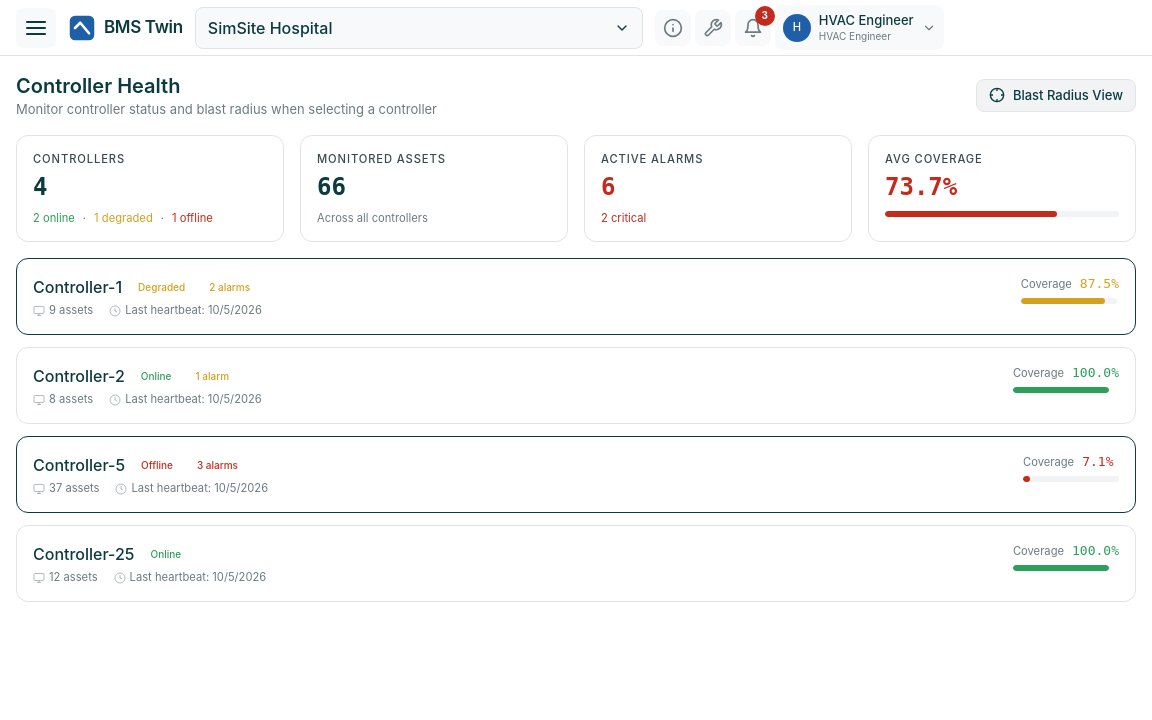
Test: ControllerHealth page › summarises the affected zones for the blast radius
The width and height of the screenshot is (1152, 720).
Click the button "Blast Radius View" at (1056, 95), box [976,79,1136,112]
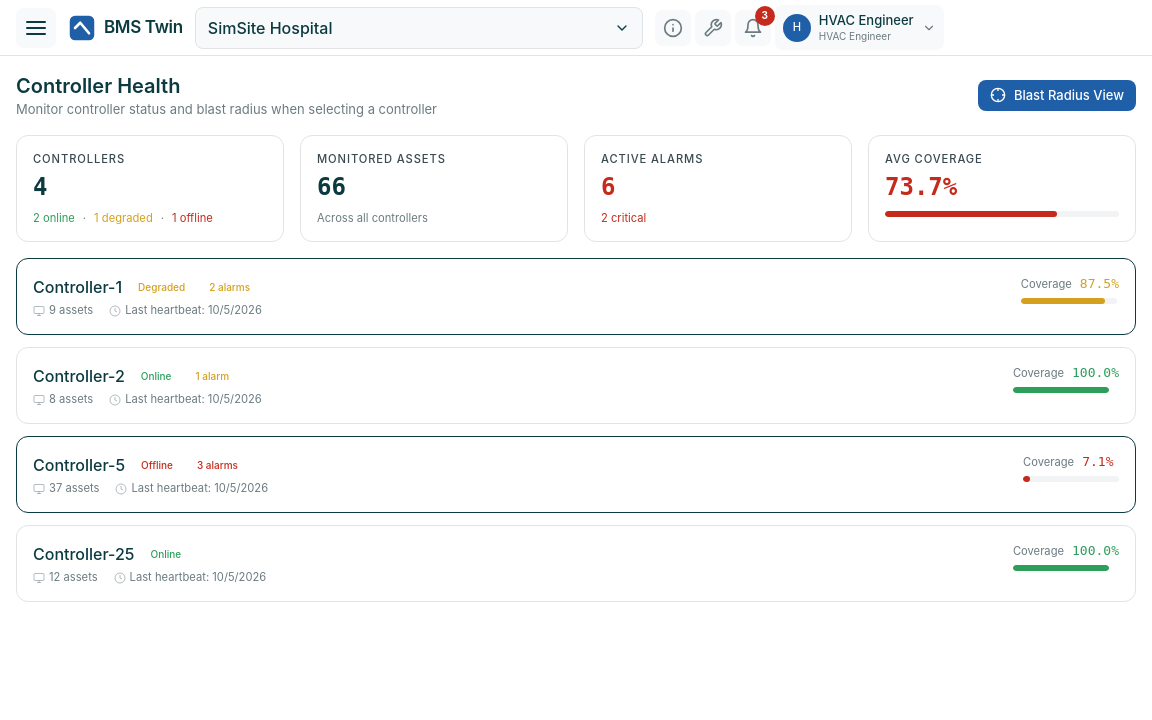
Click the text "Controller-5" at (79, 465), box [33,453,125,477]
(page scrolled)
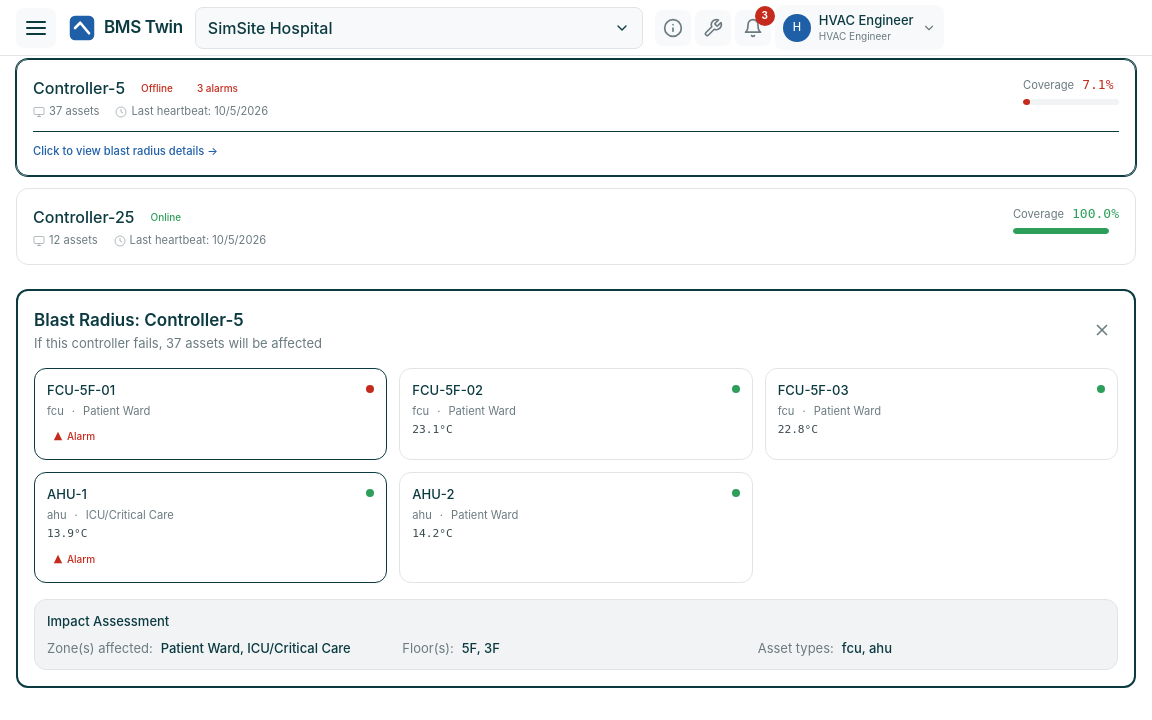
Expected: the heading "Impact Assessment" is shown, [47,613,169,629]
